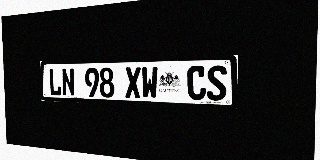8: (99, 67, 114, 98)
9: (85, 68, 99, 97)
C: (187, 66, 206, 100)
L: (49, 68, 62, 96)
N: (61, 68, 75, 96)
S: (207, 65, 227, 101)
W: (141, 67, 158, 99)
X: (125, 67, 141, 98)
